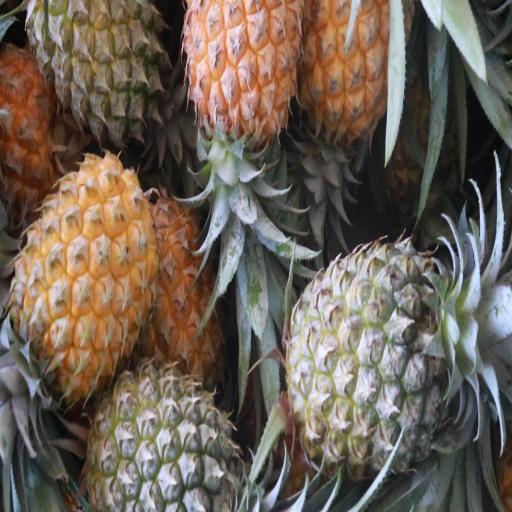------------------------------: (33, 0, 170, 140)
Pineapple - v8 v1: (7, 157, 153, 401), (146, 200, 236, 386), (187, 0, 302, 142), (299, 0, 409, 142)
